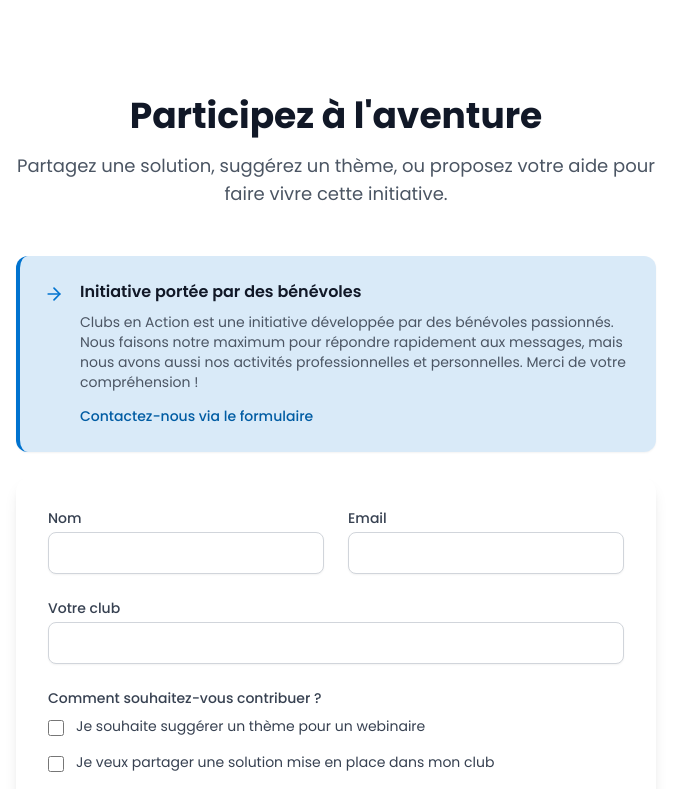
Test: Formulaire de contact › affiche les champs conditionnels quand les checkboxes sont cochées
expect the field labelled "Nom" is shown: met, box [48,532,324,574]
expect the field labelled "Quel thème souhaiteriez-vous" is not shown: met
// Cocher la checkbox "suggérer un thème"
Click the checkbox labelled "Je souhaite suggérer un thème pour un webinaire".
click(56, 728)  # box [48,720,64,736]
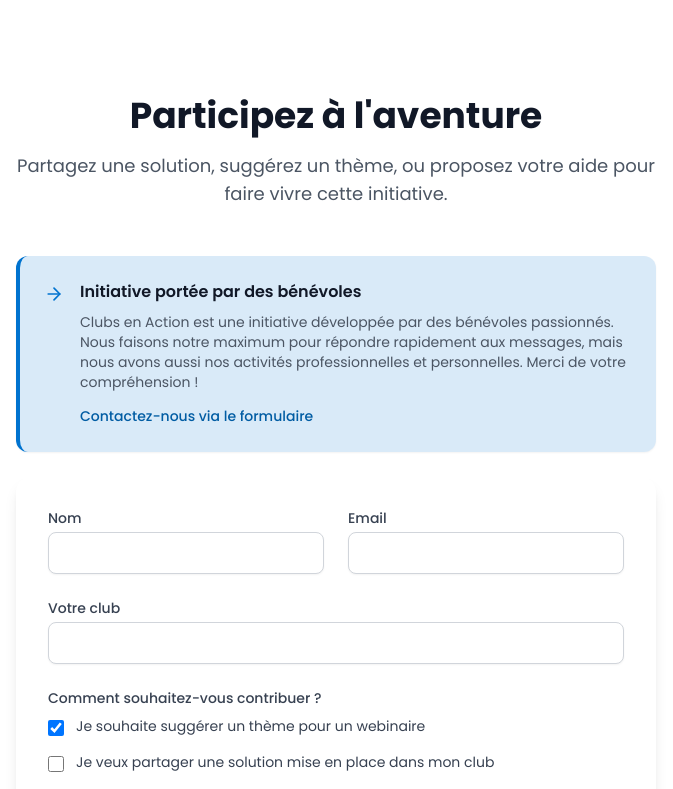
// Cocher la checkbox "partager une solution"
Click the checkbox labelled "Je veux partager une solution mise en place dans mon club".
click(56, 764)  # box [48,756,64,772]
(page scrolled)
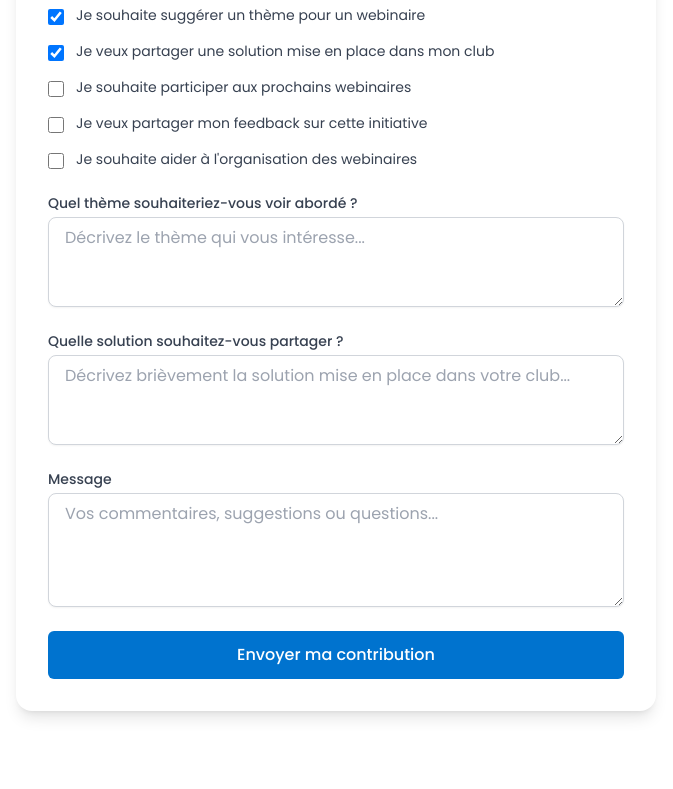
expect the text box labelled "Quelle solution souhaitez-vous partager ?" is shown: met, box [48,355,624,445]
